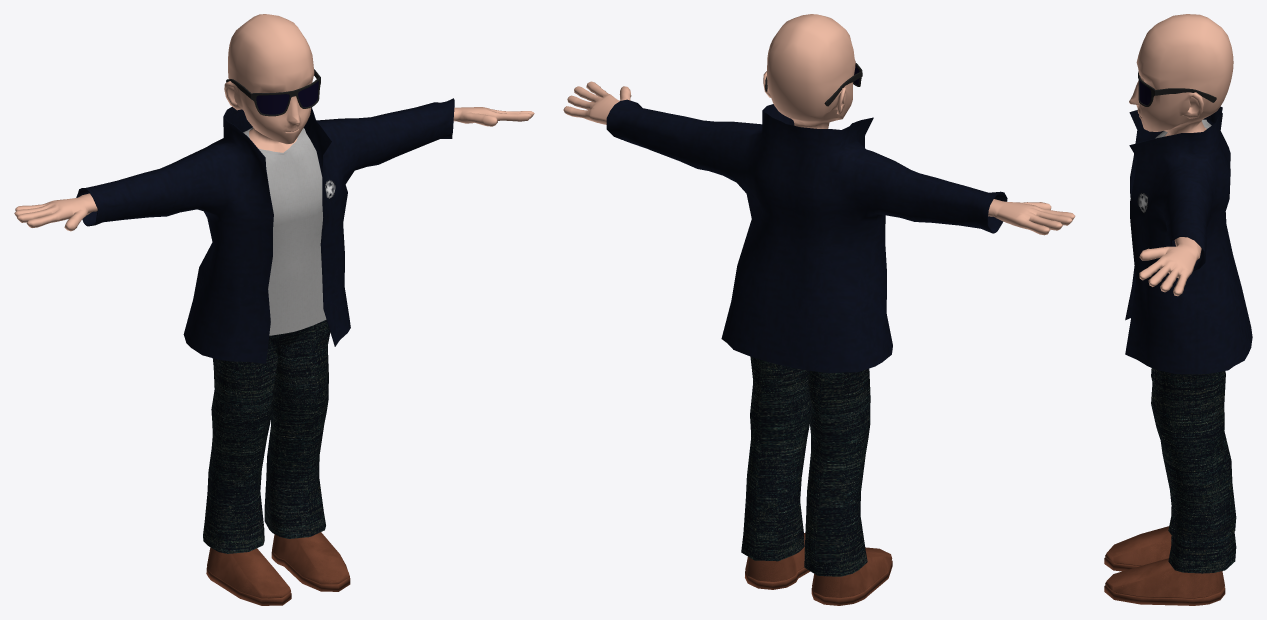
Rendered from chara.fbx.
3 views of the same model, side by side, from view 1: azimuth 30°, elevation 25°; view 2: azimuth 150°, elevation 25°; view 3: azimuth 270°, elevation 25° (orthographic). The views are drawn at different scales.
Parts seen in each view (by area): view 1: jacket, pants, body, shoes, sunglasses; view 2: jacket, pants, body, shoes; view 3: jacket, pants, body, shoes, sunglasses.
Boxes of the visible parts, <box> form: jacket: <box>76,98,454,363</box>; pants: <box>203,319,330,553</box>; body: <box>14,14,534,335</box>; shoes: <box>206,532,350,605</box>; sunglasses: <box>226,69,320,116</box>; jacket: <box>606,99,1007,373</box>; pants: <box>741,356,870,576</box>; body: <box>563,14,1075,235</box>; shoes: <box>745,533,892,605</box>; jacket: <box>1125,106,1252,374</box>; pants: <box>1151,368,1236,573</box>; body: <box>1129,14,1233,296</box>; shoes: <box>1104,526,1225,605</box>; sunglasses: <box>1138,71,1216,106</box>.
Bounding box in the file's own units: 183 × 192 × 46.08.
Materials: 1 (1 with a texture image).
